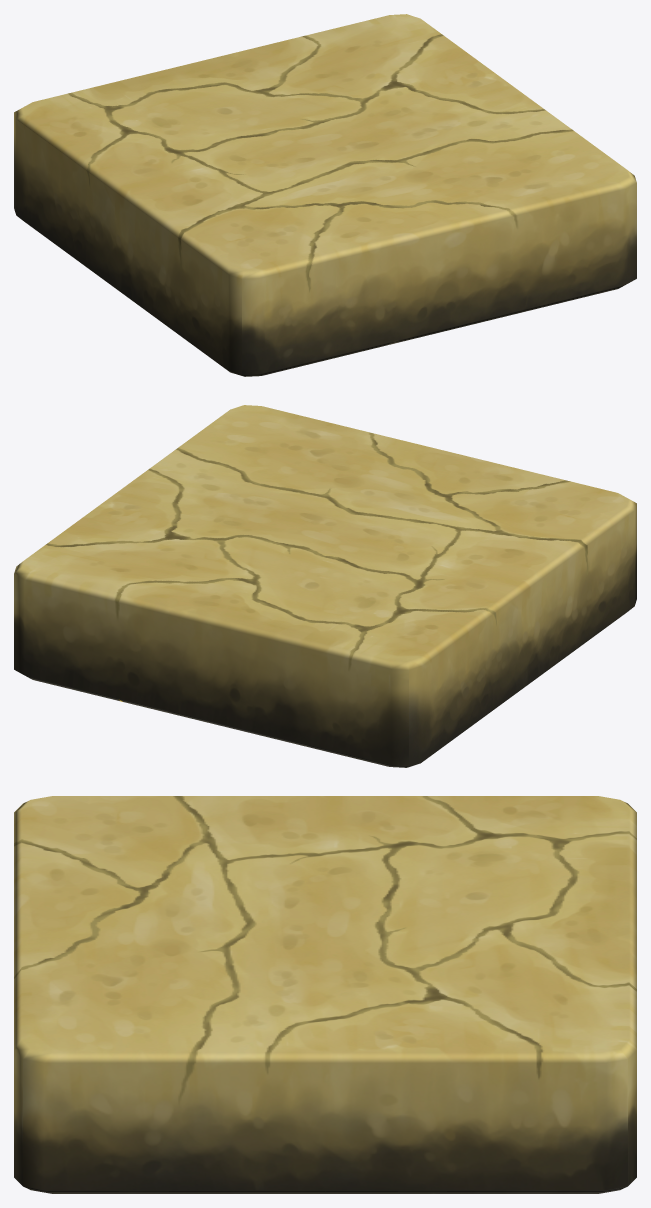
The model's file is panel_yellow.fbx.
The picture shows the model from 3 angles, top to bottom: view 1: azimuth 30°, elevation 25°; view 2: azimuth 150°, elevation 25°; view 3: azimuth 270°, elevation 25°; orthographic projection. The views are drawn at different scales.
Visible parts, largest first — view 1: Panel_yellow; view 2: Panel_yellow; view 3: Panel_yellow.
Boxes of the visible parts, x1,y1,x2,y2 form: Panel_yellow: [14, 14, 636, 376]; Panel_yellow: [14, 405, 636, 767]; Panel_yellow: [14, 796, 636, 1193].
Size of the model in its own units: 100 by 25 by 100.
1 material, 1 textured.
